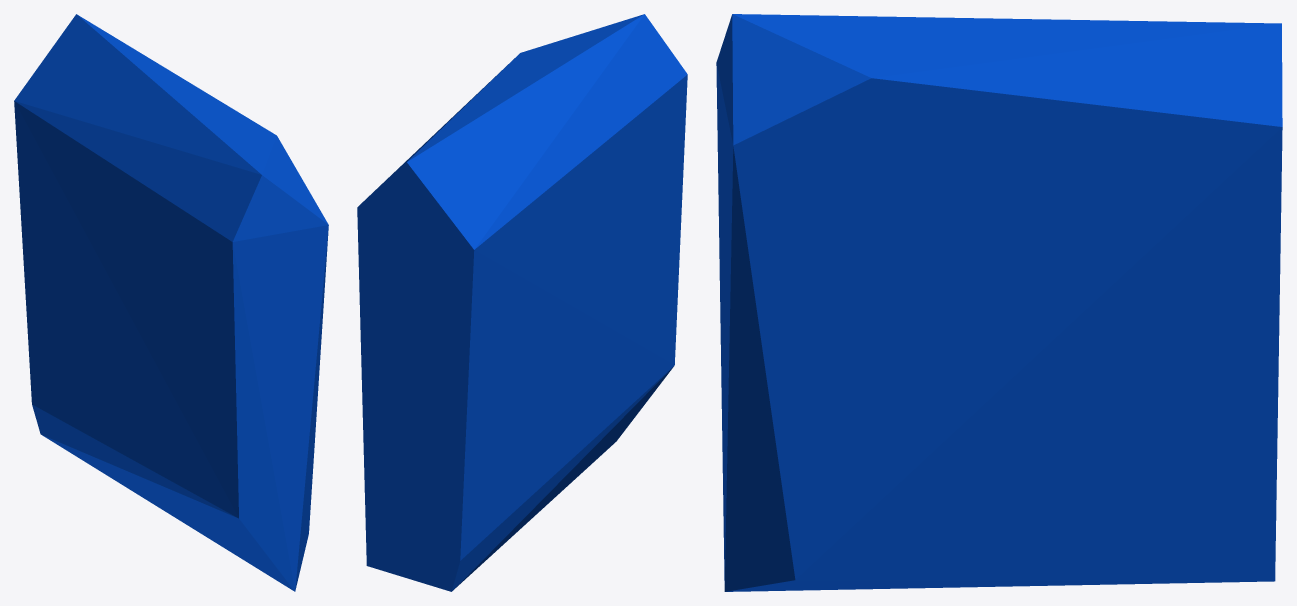
The model's file is camera_convex_piece_001.obj.
3 renders of one model, left to right at view 1: azimuth 30°, elevation 25°; view 2: azimuth 150°, elevation 25°; view 3: azimuth 270°, elevation 25°, orthographic. The views are drawn at different scales.
Bounding box in the file's own units: 0.00442 × 0.016 × 0.0146.
